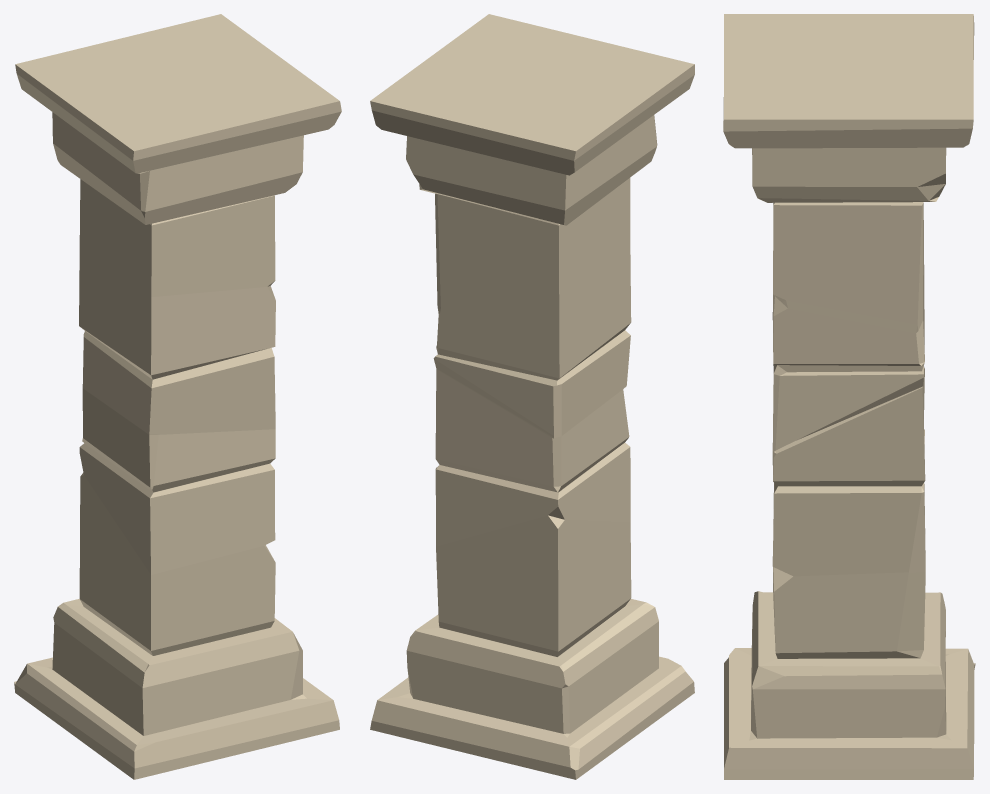
File: SM_SM_Peller_02.001.fbx
3 views of the same model, side by side, from view 1: azimuth 30°, elevation 25°; view 2: azimuth 150°, elevation 25°; view 3: azimuth 270°, elevation 25° (orthographic). The views are drawn at different scales.
Visible parts, largest first — view 1: SM_Peller_02.001; view 2: SM_Peller_02.001; view 3: SM_Peller_02.001.
Part boxes in pixels (x1,y1,x2,y2): SM_Peller_02.001: (14, 14, 341, 779); SM_Peller_02.001: (370, 14, 694, 779); SM_Peller_02.001: (723, 14, 975, 779).
Size of the model in its own units: 104 by 300 by 104.
